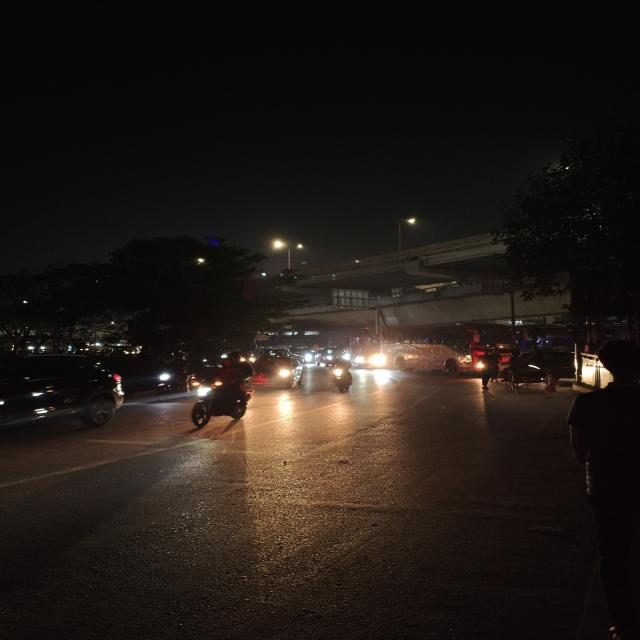bus: (394, 320, 526, 377)
car: (0, 356, 131, 438), (249, 348, 306, 389), (355, 346, 387, 368)
motorcycle: (184, 354, 259, 430), (148, 352, 181, 396), (324, 357, 359, 397)
pedestrian: (474, 348, 504, 391)
rickshaw: (504, 351, 557, 395)
